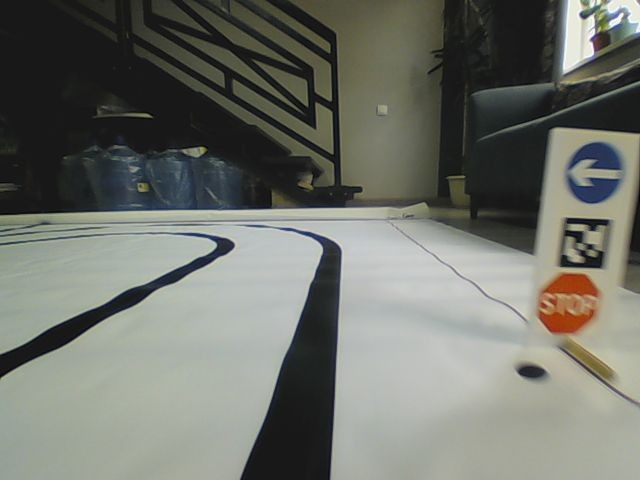Stop: (536, 270, 606, 338)
